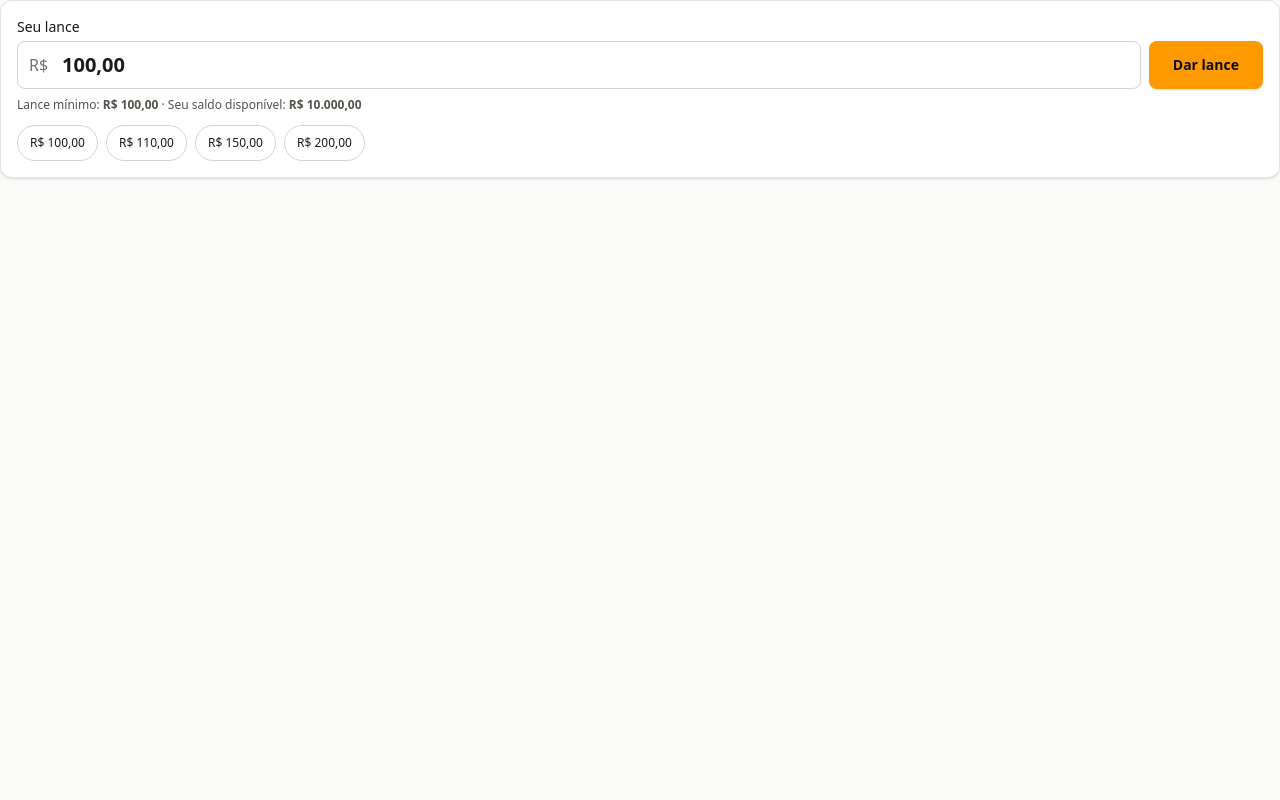
Test case: BidPanel › licitante: campo ja vem com o lance minimo e envia com Idempotency-Key
Expected: the field labelled "Seu lance" holds "100,00", left=17, top=41, right=1141, bottom=89
Click the button "Dar lance". click: (1206, 65)
box: left=1149, top=41, right=1263, bottom=89
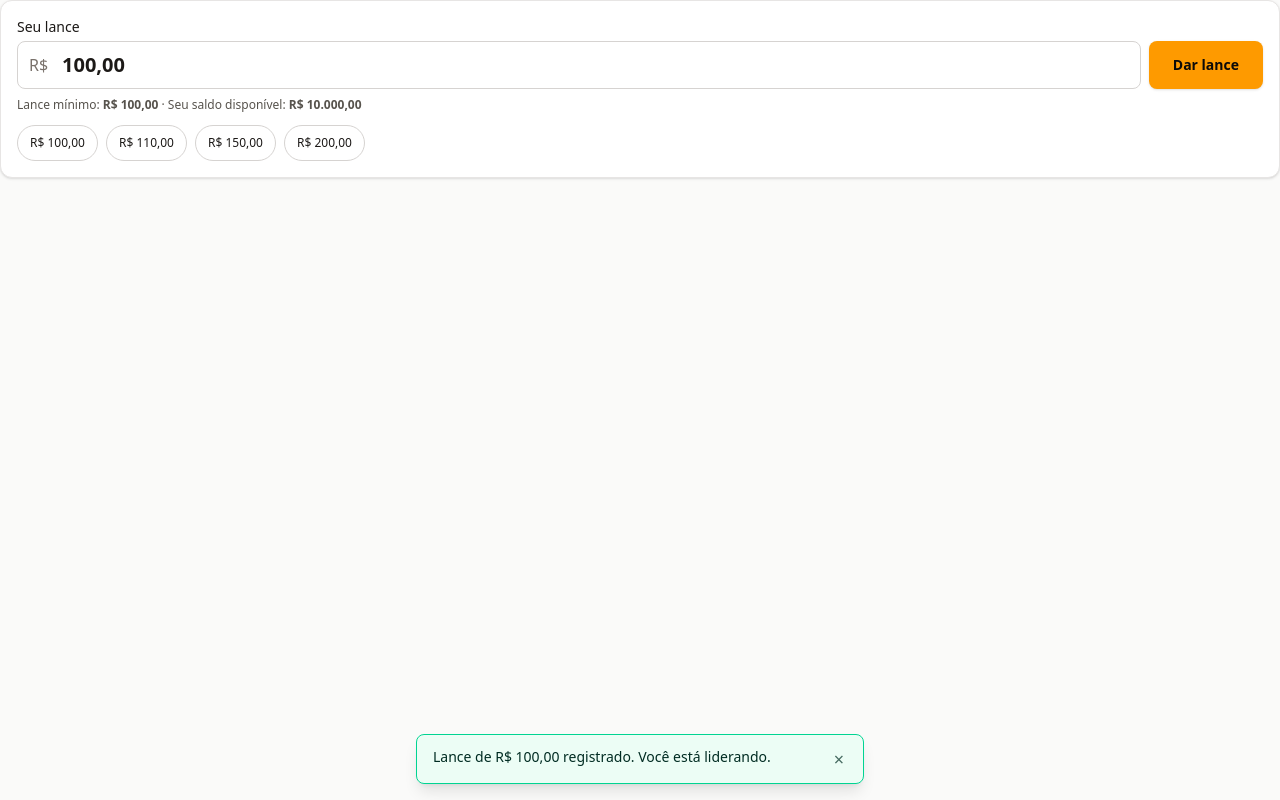
Expected: the text "Lance de R$ 100,00 registrado. Você está liderando." is shown, left=433, top=747, right=811, bottom=767
